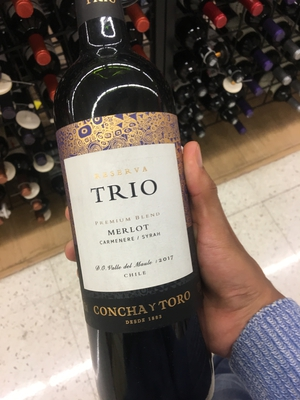trio merlot: (44, 4, 224, 391)
